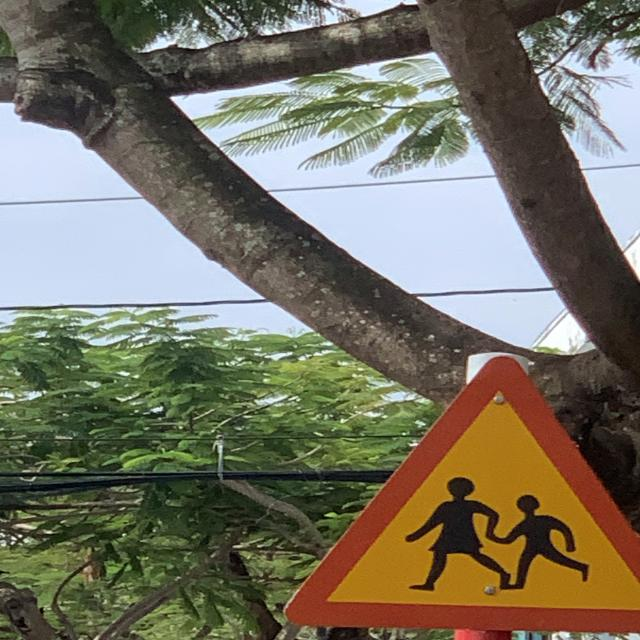Vong_Xuyen: (287, 354, 640, 632)
